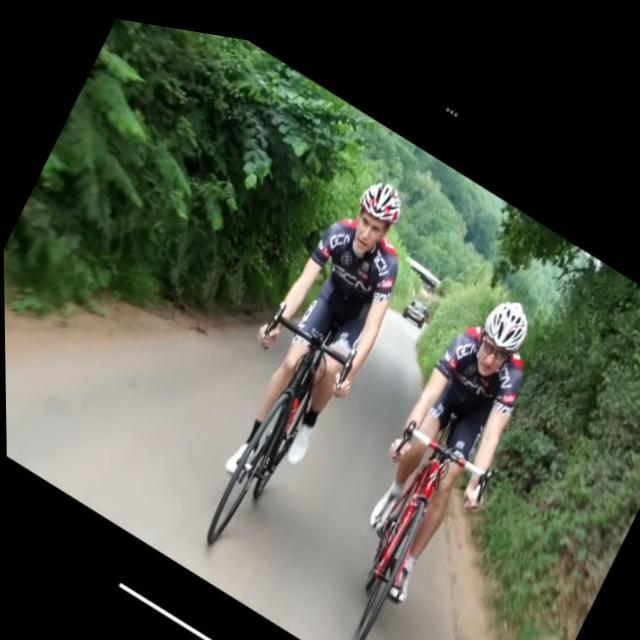Helmet: (463, 290, 536, 385), (343, 170, 409, 260)
